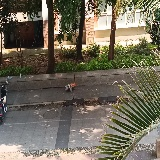fire: (70, 82, 76, 87)
